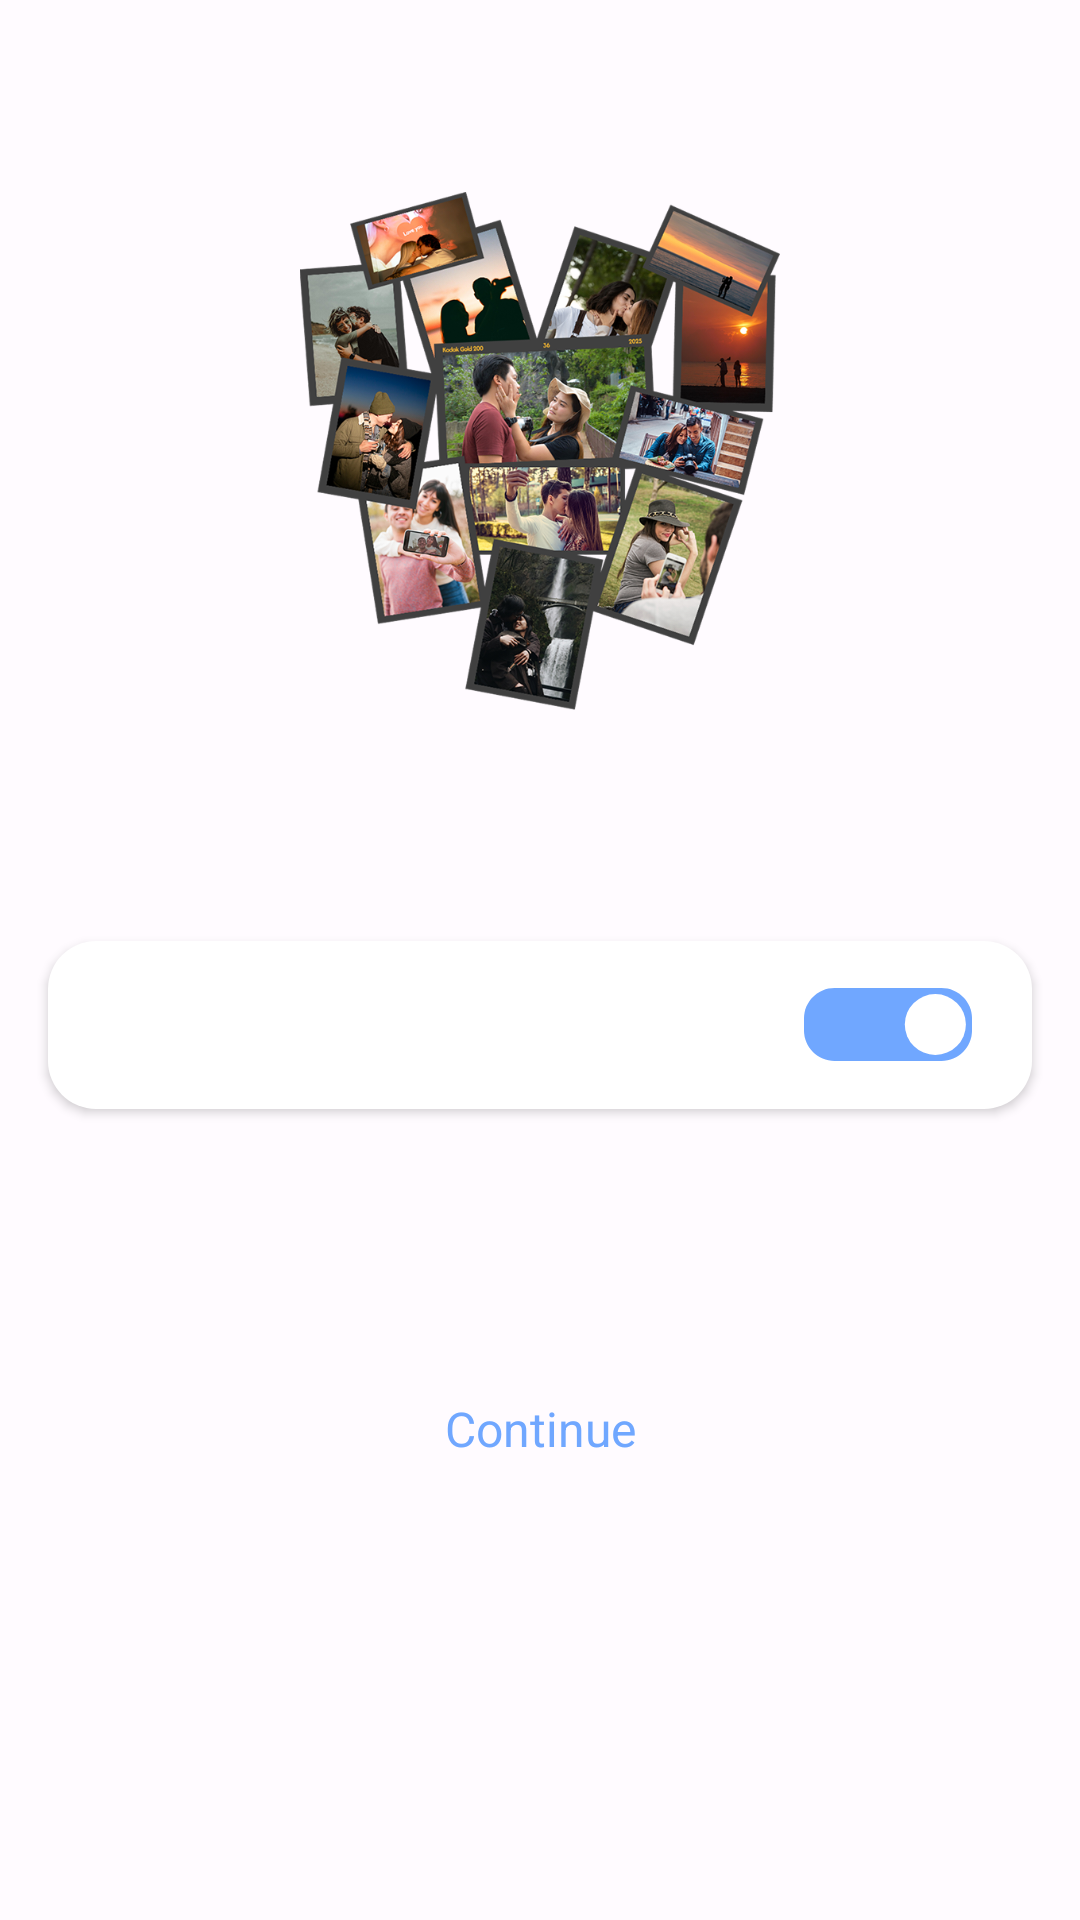

Where to tap for icons on this 1080x1920 app screen, as (x=x, y=y):
switch on: (x=888, y=1024)
